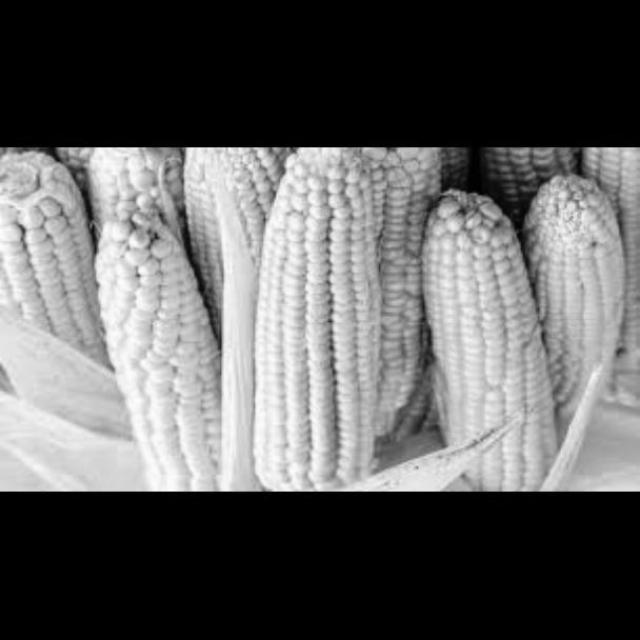ngu coc: (239, 149, 393, 493), (85, 193, 229, 493), (422, 190, 562, 492), (524, 177, 636, 431), (0, 148, 112, 361), (362, 148, 440, 418), (187, 148, 276, 351), (78, 148, 194, 218), (484, 148, 577, 210)
